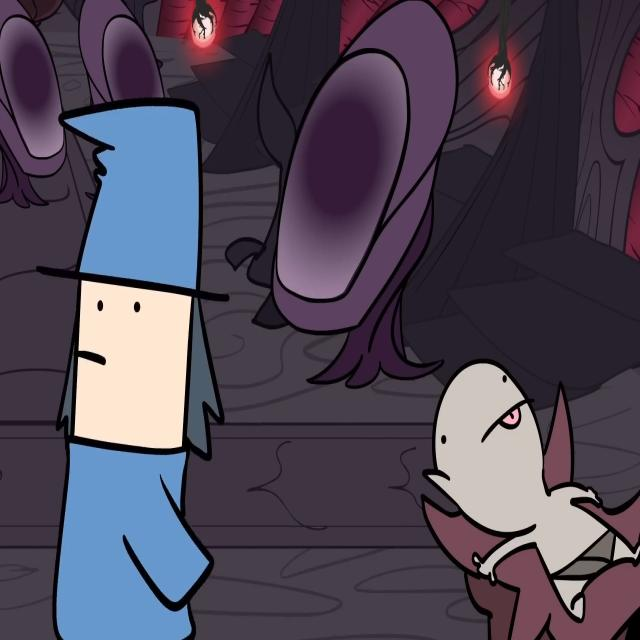Josh: (52, 90, 216, 640)
